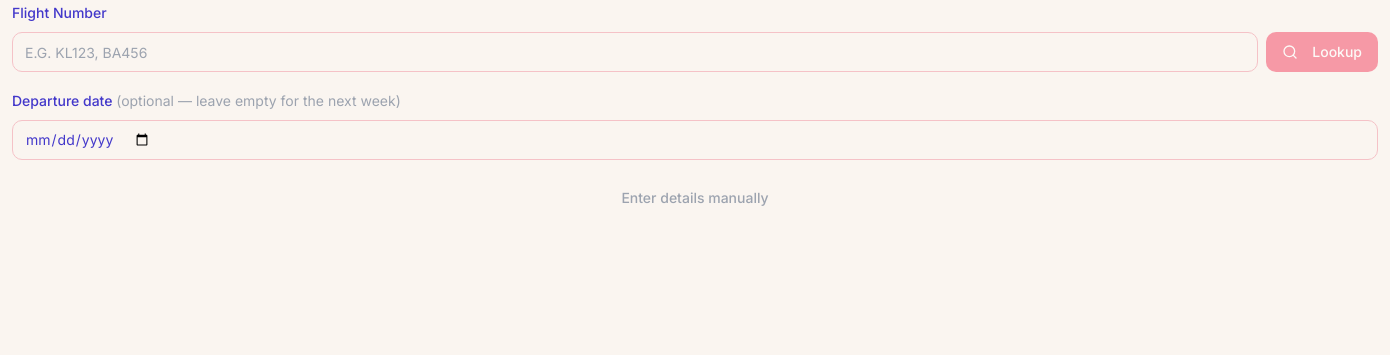
Test: FlightLookupSection › renders candidate cards when results are returned
The width and height of the screenshot is (1390, 355).
In the field: (635, 52) [12, 32, 1258, 72], type "KL123"
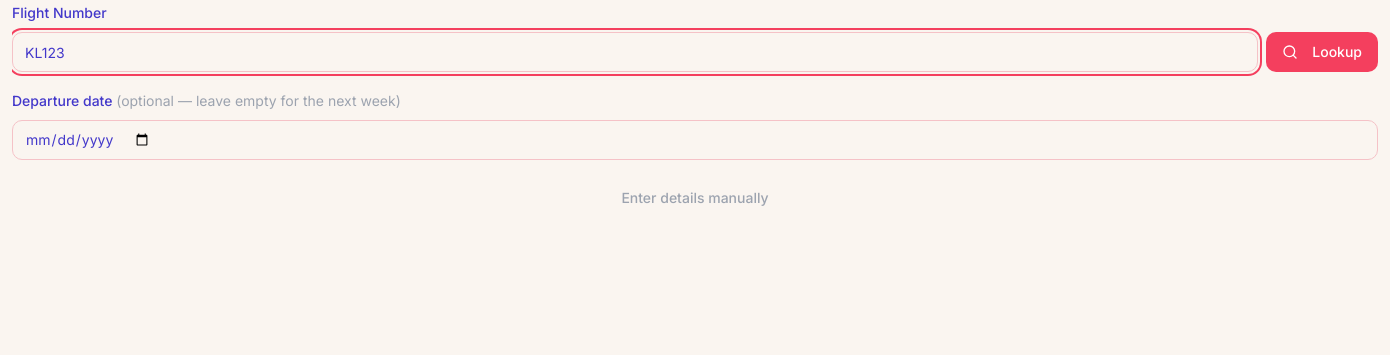
Click the button "Lookup": (1322, 52) [1266, 32, 1378, 72]
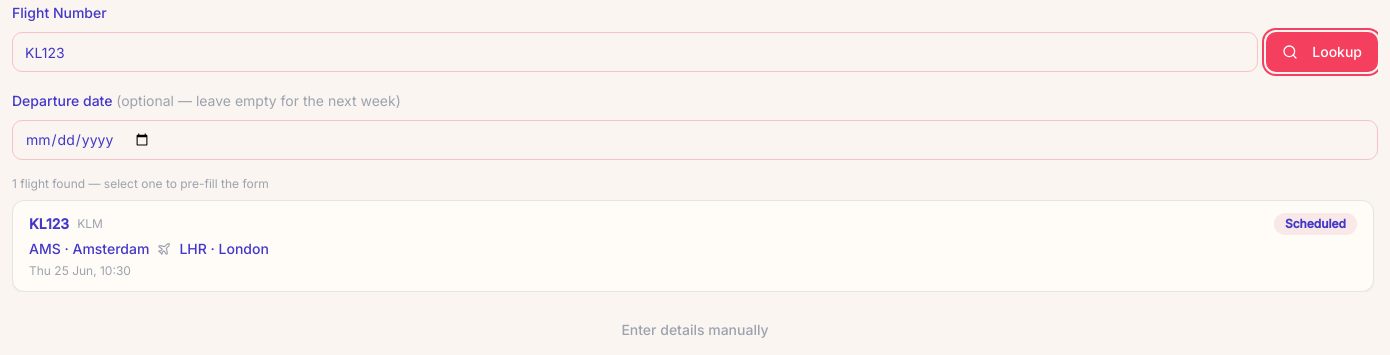
expect the text "KL123" is shown: met, box [29, 214, 69, 234]
